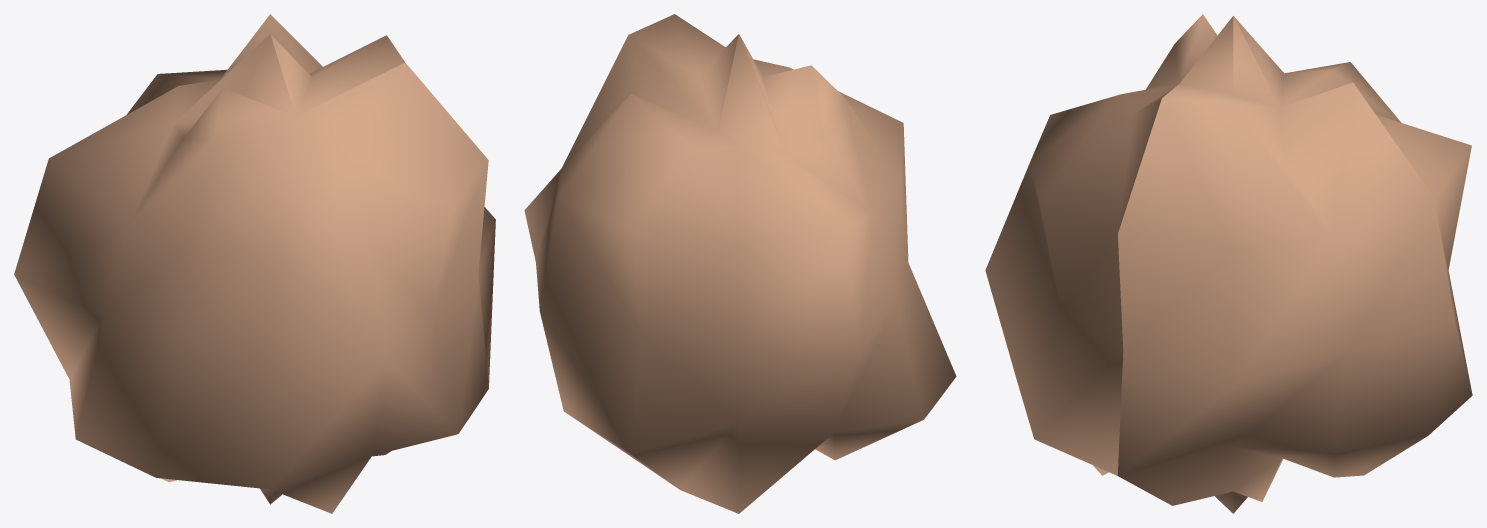
File: rock_011.fbx
3 renders of one model, left to right at view 1: azimuth 30°, elevation 25°; view 2: azimuth 150°, elevation 25°; view 3: azimuth 270°, elevation 25°, orthographic. The views are drawn at different scales.
Parts seen in each view (by area): view 1: Rock; view 2: Rock; view 3: Rock.
Part boxes in pixels (box(x1,y1,x2,y2)): Rock: box(14, 14, 495, 513); Rock: box(524, 14, 956, 513); Rock: box(985, 14, 1472, 513).
Size of the model in its own units: 3.52 by 3.77 by 3.34.
